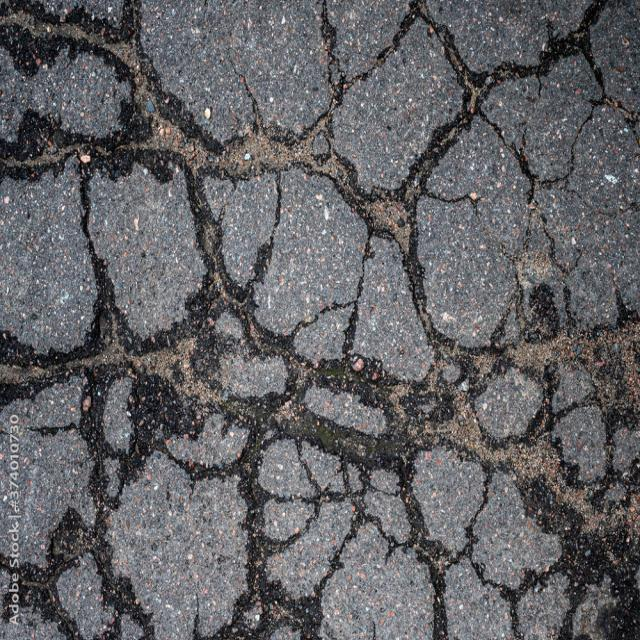Drain Hole: (48, 32, 633, 591)
